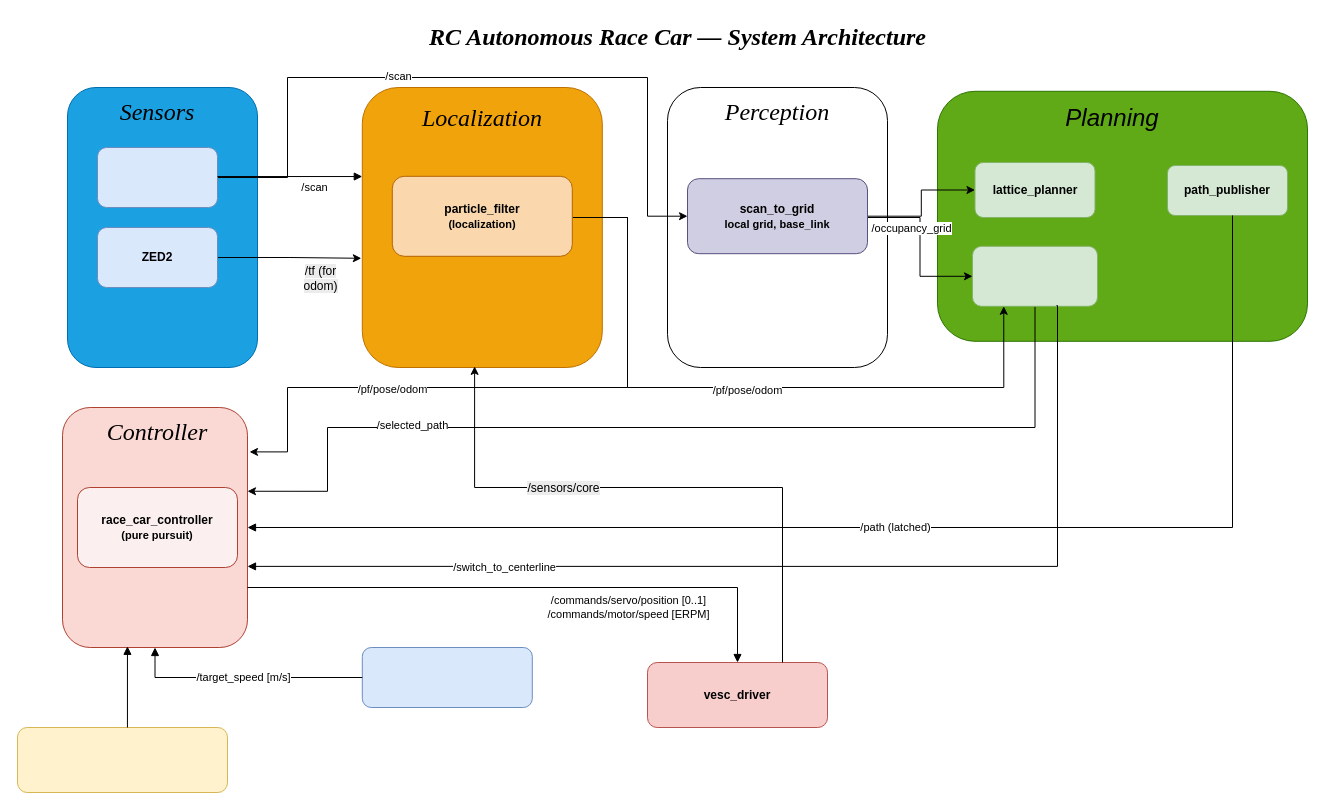
This 1325x810 diagram has some shape labels left out. The centre of each missing label's shape, as x and y in pixels:
"/joy autonomous on/off, button 0" goes at point 122,759.
"desired_speed_pub" goes at point 446,677.
"mission_planner" goes at point 1035,275.
"YDLidar" goes at point 157,177.
